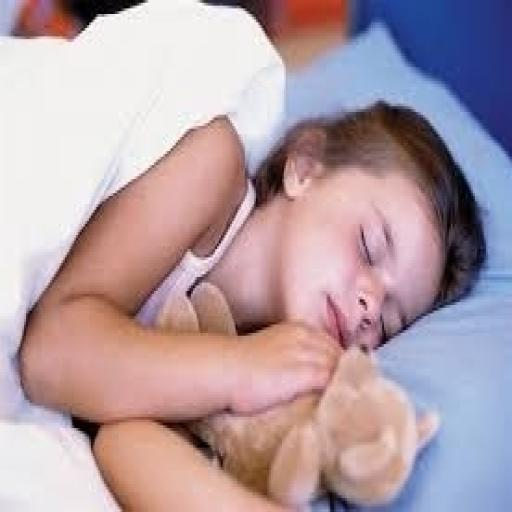sleeping: (11, 0, 488, 509)
